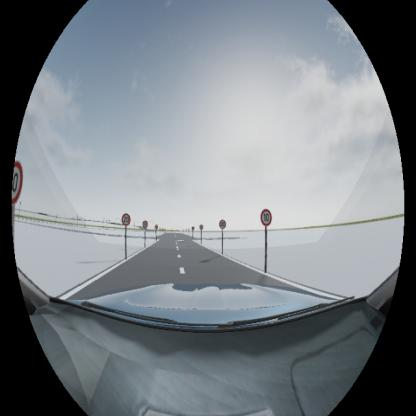Speed Limit 10: (261, 207, 272, 226)
Speed Limit 20: (121, 214, 130, 225)
